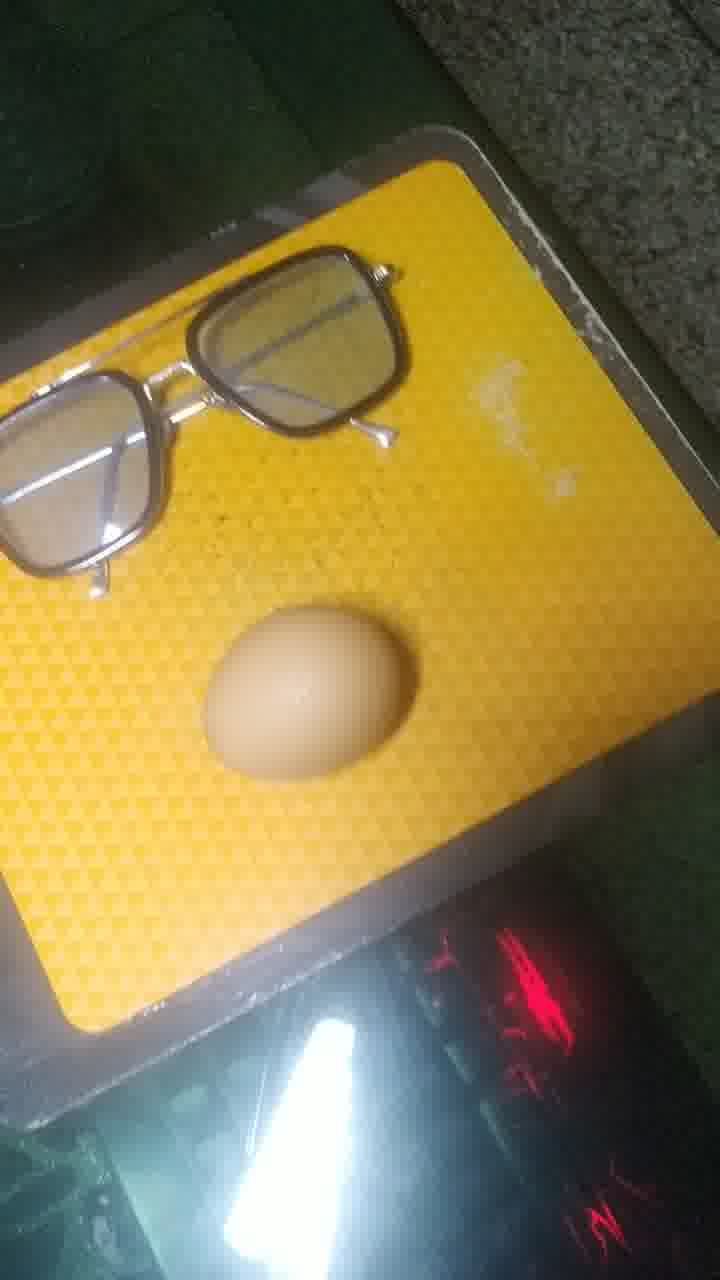egg: (186, 596, 417, 781)
sunglass: (6, 250, 497, 598)
